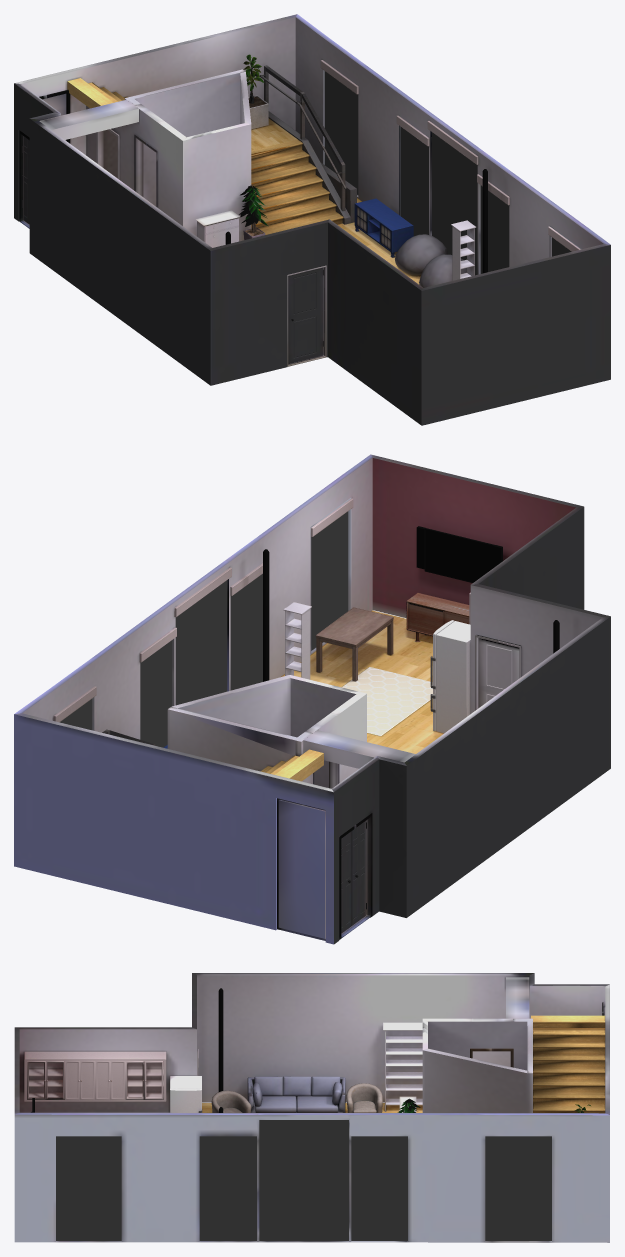
The model's file is remake_v0_JustBigStuff_00.glb.
The picture shows the model from 3 angles, top to bottom: view 1: azimuth 30°, elevation 25°; view 2: azimuth 150°, elevation 25°; view 3: azimuth 270°, elevation 25°; orthographic projection. The views are drawn at different scales.
Visible parts, largest first — view 1: RC_Arch_Walls, RC_Arch_WallsInterior, RC_Furn_Curtians, RC_Arch_Stairs, RC_Arch_StairsRailing, RC_Arch_Door1, RC_Furn_TvStand_01, RC_Furn_Beanbag_01, RC_Furn_Dresser, RC_Furn_ShelfWC1, RC_Acc_Plant_01, RC_Acc_Plant_02 (+6 smaller); view 2: RC_Arch_Walls, RC_Furn_Curtians, RC_Arch_WallsInterior, RC_Arch_Floor, RC_Arch_Door3, RC_Furn_Fridge, RC_Acc_Rug_01, RC_Acc_Tv, RC_Furn_Table_01, RC_Arch_Door1, RC_Furn_ShelfWC1, RC_Arch_Door2L (+6 smaller); view 3: RC_Arch_Walls, RC_Furn_Curtians, RC_Arch_WallsInterior, RC_Arch_Stairs, RC_Furn_CabinetTopShelf, RC_Furn_Couch, RC_Furn_ShelfWC2, RC_Furn_Chair_01, RC_Furn_FridgeDoor_Top, RC_Furn_Chair_02, RC_Arch_Pipes, RC_Furn_Fridge.
Part boxes in pixels (x1,y1,x2,y2): RC_Arch_Walls: [14, 14, 610, 425]; RC_Arch_WallsInterior: [39, 69, 251, 241]; RC_Furn_Curtians: [320, 60, 580, 275]; RC_Arch_Stairs: [67, 78, 343, 234]; RC_Arch_StairsRailing: [259, 65, 356, 224]; RC_Arch_Door1: [288, 267, 323, 363]; RC_Furn_TvStand_01: [354, 198, 413, 257]; RC_Furn_Beanbag_01: [395, 234, 447, 275]; RC_Furn_Dresser: [196, 210, 239, 247]; RC_Furn_ShelfWC1: [451, 220, 476, 280]; RC_Acc_Plant_01: [243, 54, 268, 129]; RC_Acc_Plant_02: [239, 185, 268, 239]; RC_Arch_Walls: [14, 454, 610, 944]; RC_Furn_Curtians: [53, 498, 353, 747]; RC_Arch_WallsInterior: [167, 675, 415, 787]; RC_Arch_Floor: [281, 610, 443, 753]; RC_Arch_Door3: [278, 799, 325, 938]; RC_Furn_Fridge: [436, 621, 470, 733]; RC_Acc_Rug_01: [341, 667, 432, 735]; RC_Acc_Tv: [416, 526, 502, 582]; RC_Furn_Table_01: [315, 607, 393, 681]; RC_Arch_Door1: [478, 638, 521, 707]; RC_Furn_ShelfWC1: [283, 602, 311, 679]; RC_Arch_Door2L: [351, 821, 366, 925]; RC_Arch_Walls: [14, 973, 609, 1242]; RC_Furn_Curtians: [56, 1120, 551, 1240]; RC_Arch_WallsInterior: [422, 977, 532, 1112]; RC_Arch_Stairs: [531, 1015, 605, 1113]; RC_Furn_CabinetTopShelf: [24, 1051, 166, 1101]; RC_Furn_Couch: [247, 1076, 345, 1112]; RC_Furn_ShelfWC2: [383, 1022, 422, 1111]; RC_Furn_Chair_01: [346, 1083, 382, 1112]; RC_Furn_FridgeDoor_Top: [170, 1088, 201, 1112]; RC_Furn_Chair_02: [211, 1090, 251, 1112]; RC_Arch_Pipes: [218, 988, 223, 1112]; RC_Furn_Fridge: [170, 1076, 201, 1088].
Bounding box in the file's own units: 7.18 × 3.04 × 12.74.
1 material, 1 textured.
